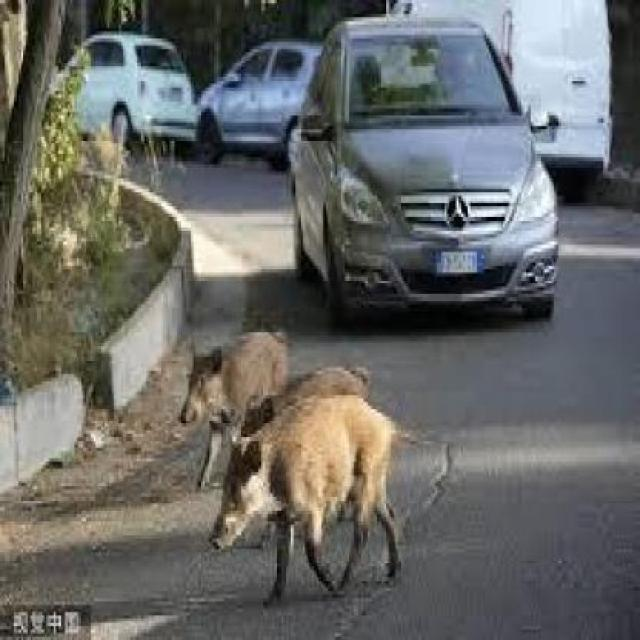wildboar: (204, 392, 427, 618), (217, 362, 386, 500), (174, 314, 301, 441)
